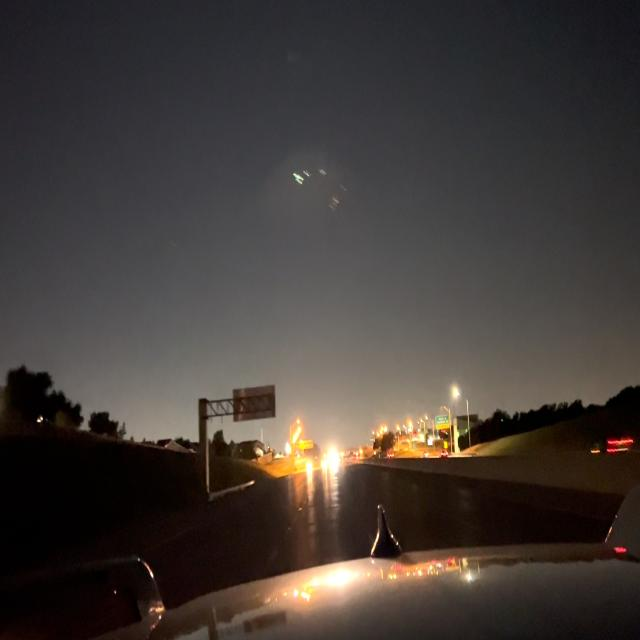back-of-sign: (234, 384, 276, 422)
